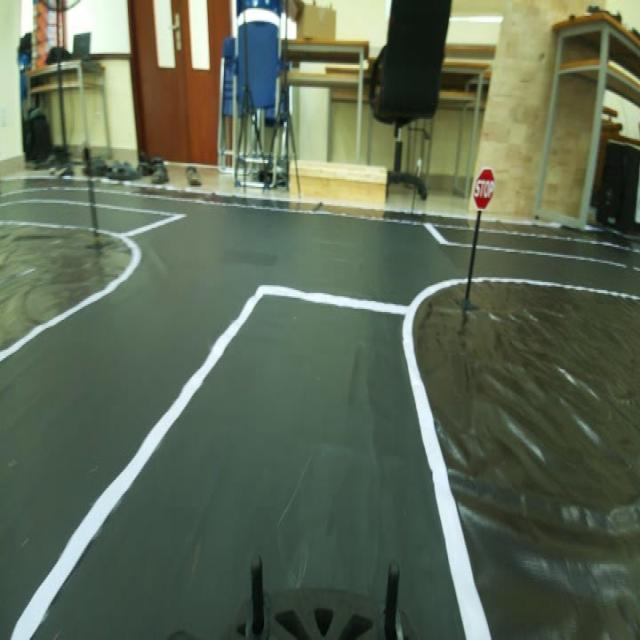stop: (471, 156, 497, 215)
